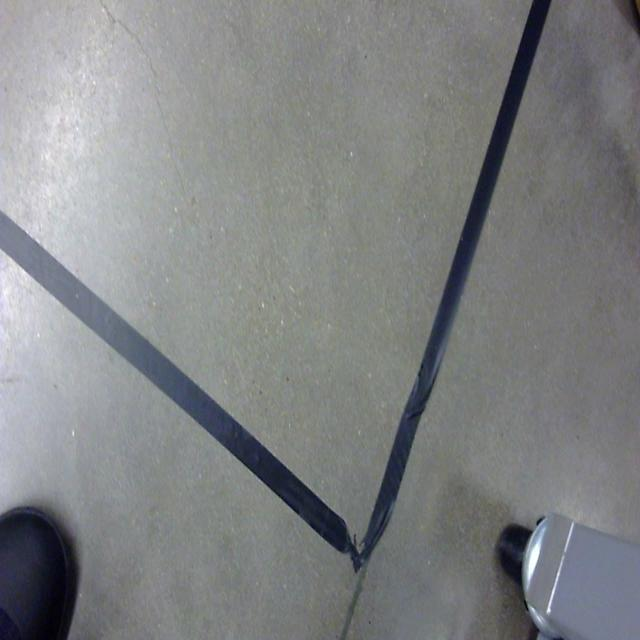tape: (0, 0, 554, 573)
